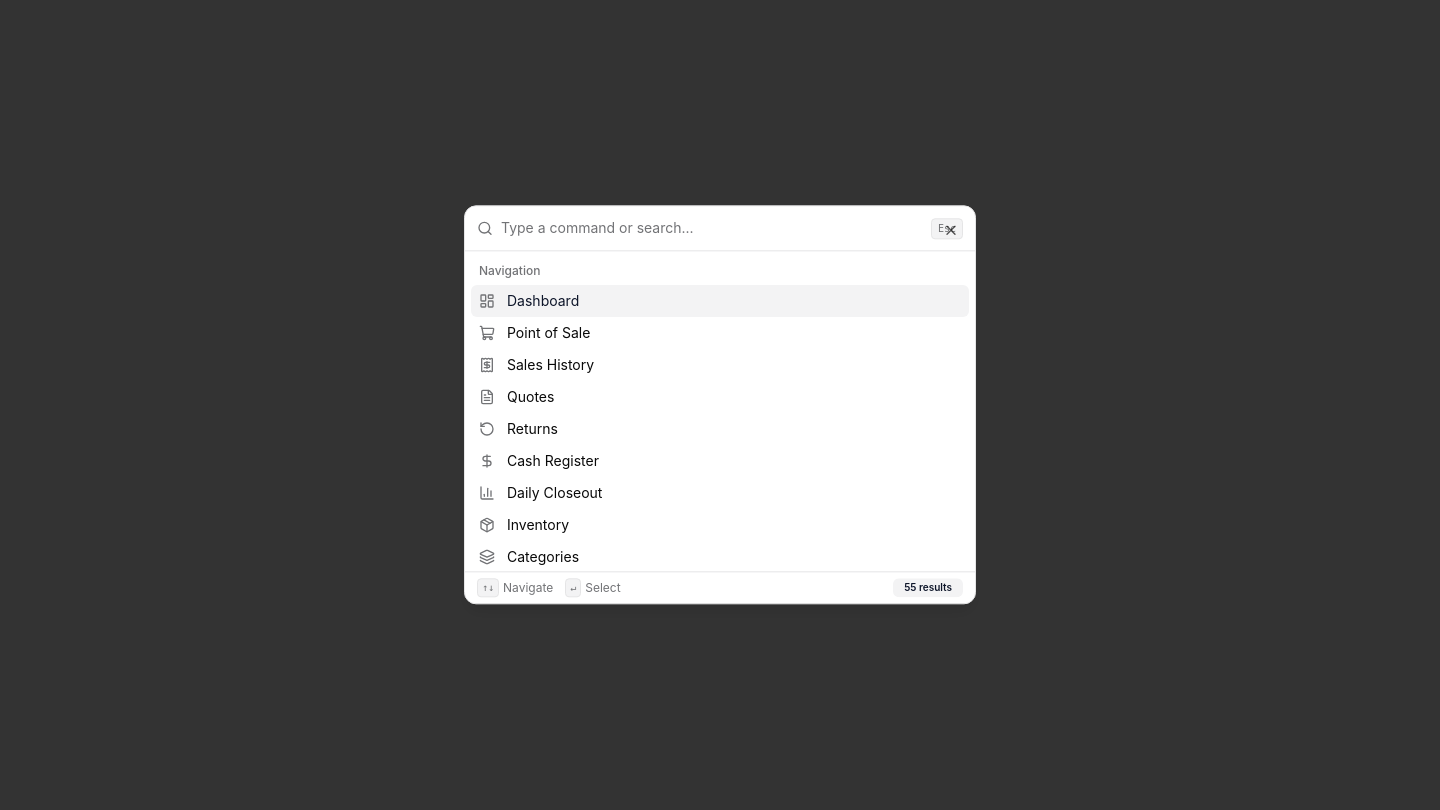
CommandPalette › shows no results message when query matches nothing
Type "zzznonexistent" into the field with placeholder "Type a command or search...".
click(716, 228); type("zzznonexistent")  # box [501,206,931,250]
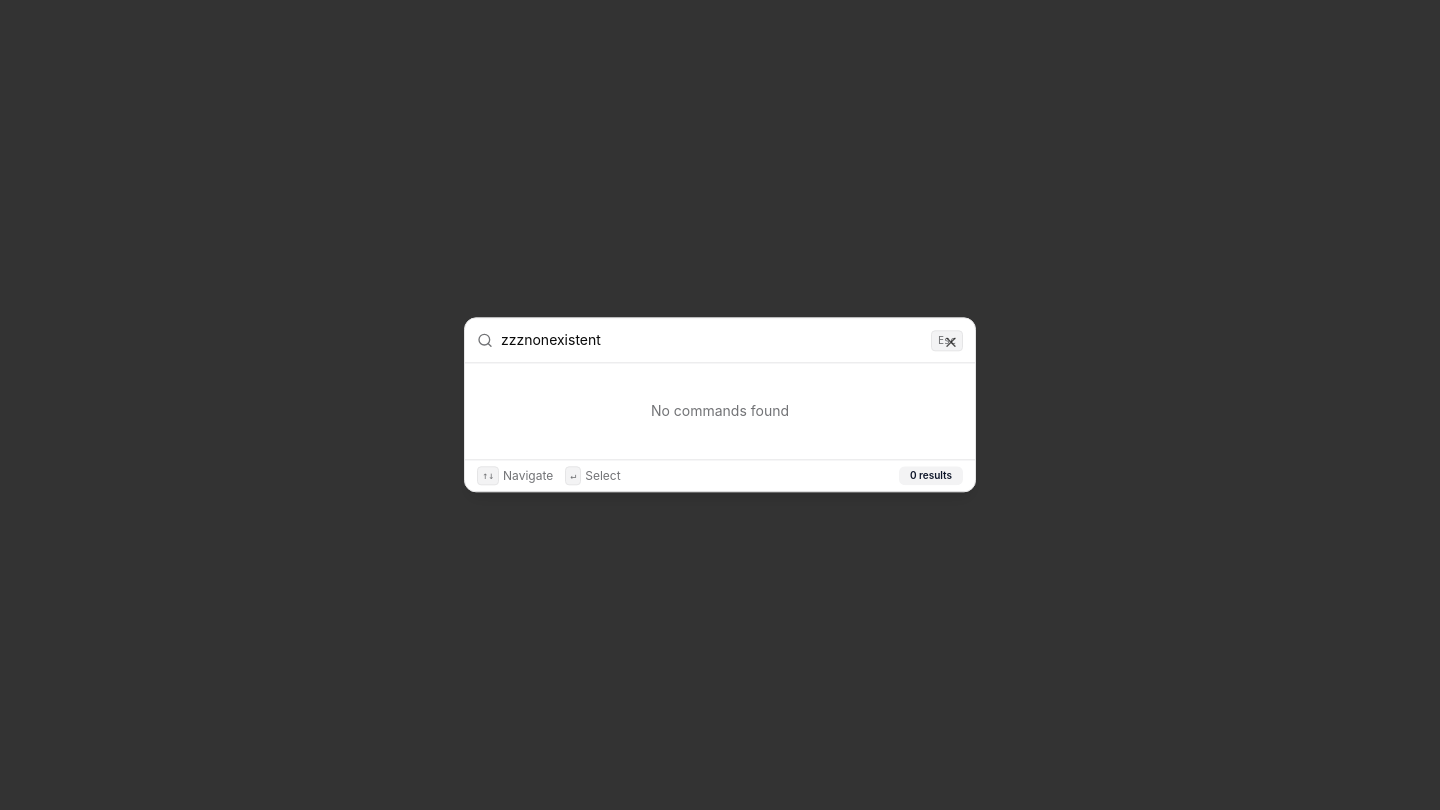
expect the text "No commands found" is shown: met, box [651,402,789,419]
